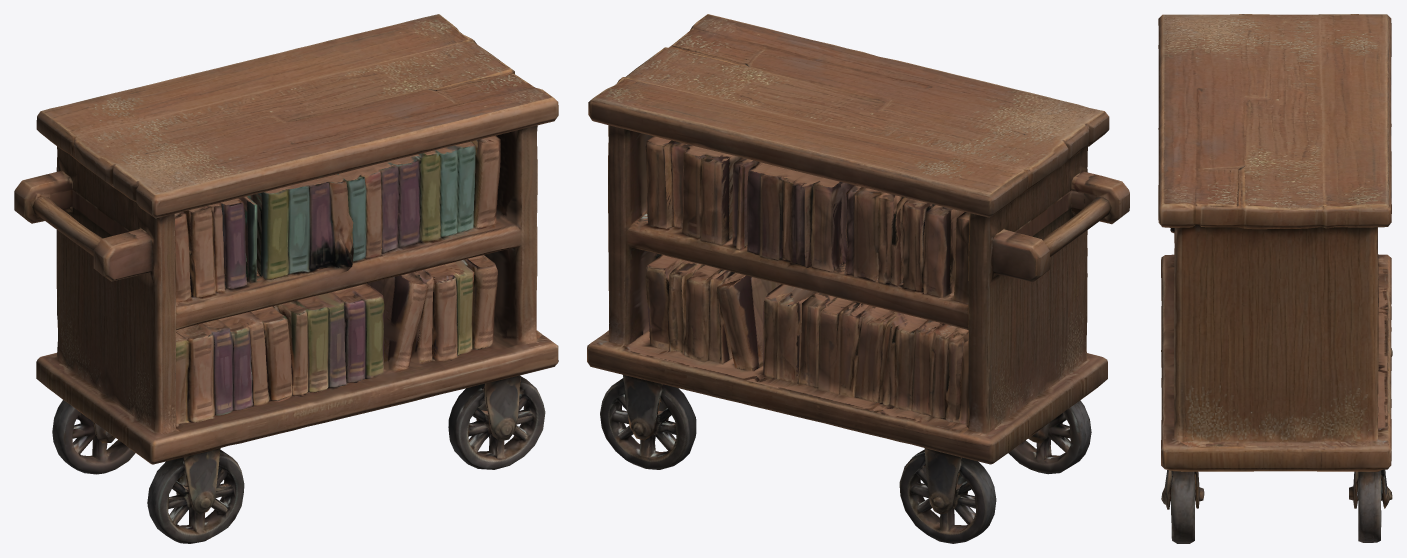
The model's file is Furn_BookCart.fbx.
3 renders of one model, left to right at view 1: azimuth 30°, elevation 25°; view 2: azimuth 150°, elevation 25°; view 3: azimuth 270°, elevation 25°, orthographic. The views are drawn at different scales.
Parts seen in each view (by area): view 1: texture_mapping; view 2: texture_mapping; view 3: texture_mapping.
Part boxes in pixels (x1,y1,x2,y2): texture_mapping: [14, 14, 558, 543]; texture_mapping: [587, 14, 1129, 543]; texture_mapping: [1158, 14, 1392, 543].
Size of the model in its own units: 1 by 0.4685 by 0.7907.
1 material, 1 textured.
